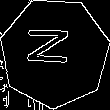N_E: (29, 32, 80, 74)
